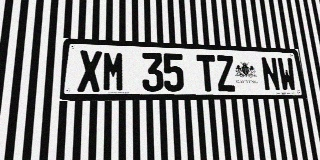3: (142, 52, 164, 92)
5: (163, 53, 185, 92)
M: (102, 51, 125, 92)
N: (260, 57, 281, 91)
T: (196, 54, 218, 91)
W: (277, 57, 297, 91)
X: (77, 50, 102, 92)
Z: (215, 55, 236, 91)
